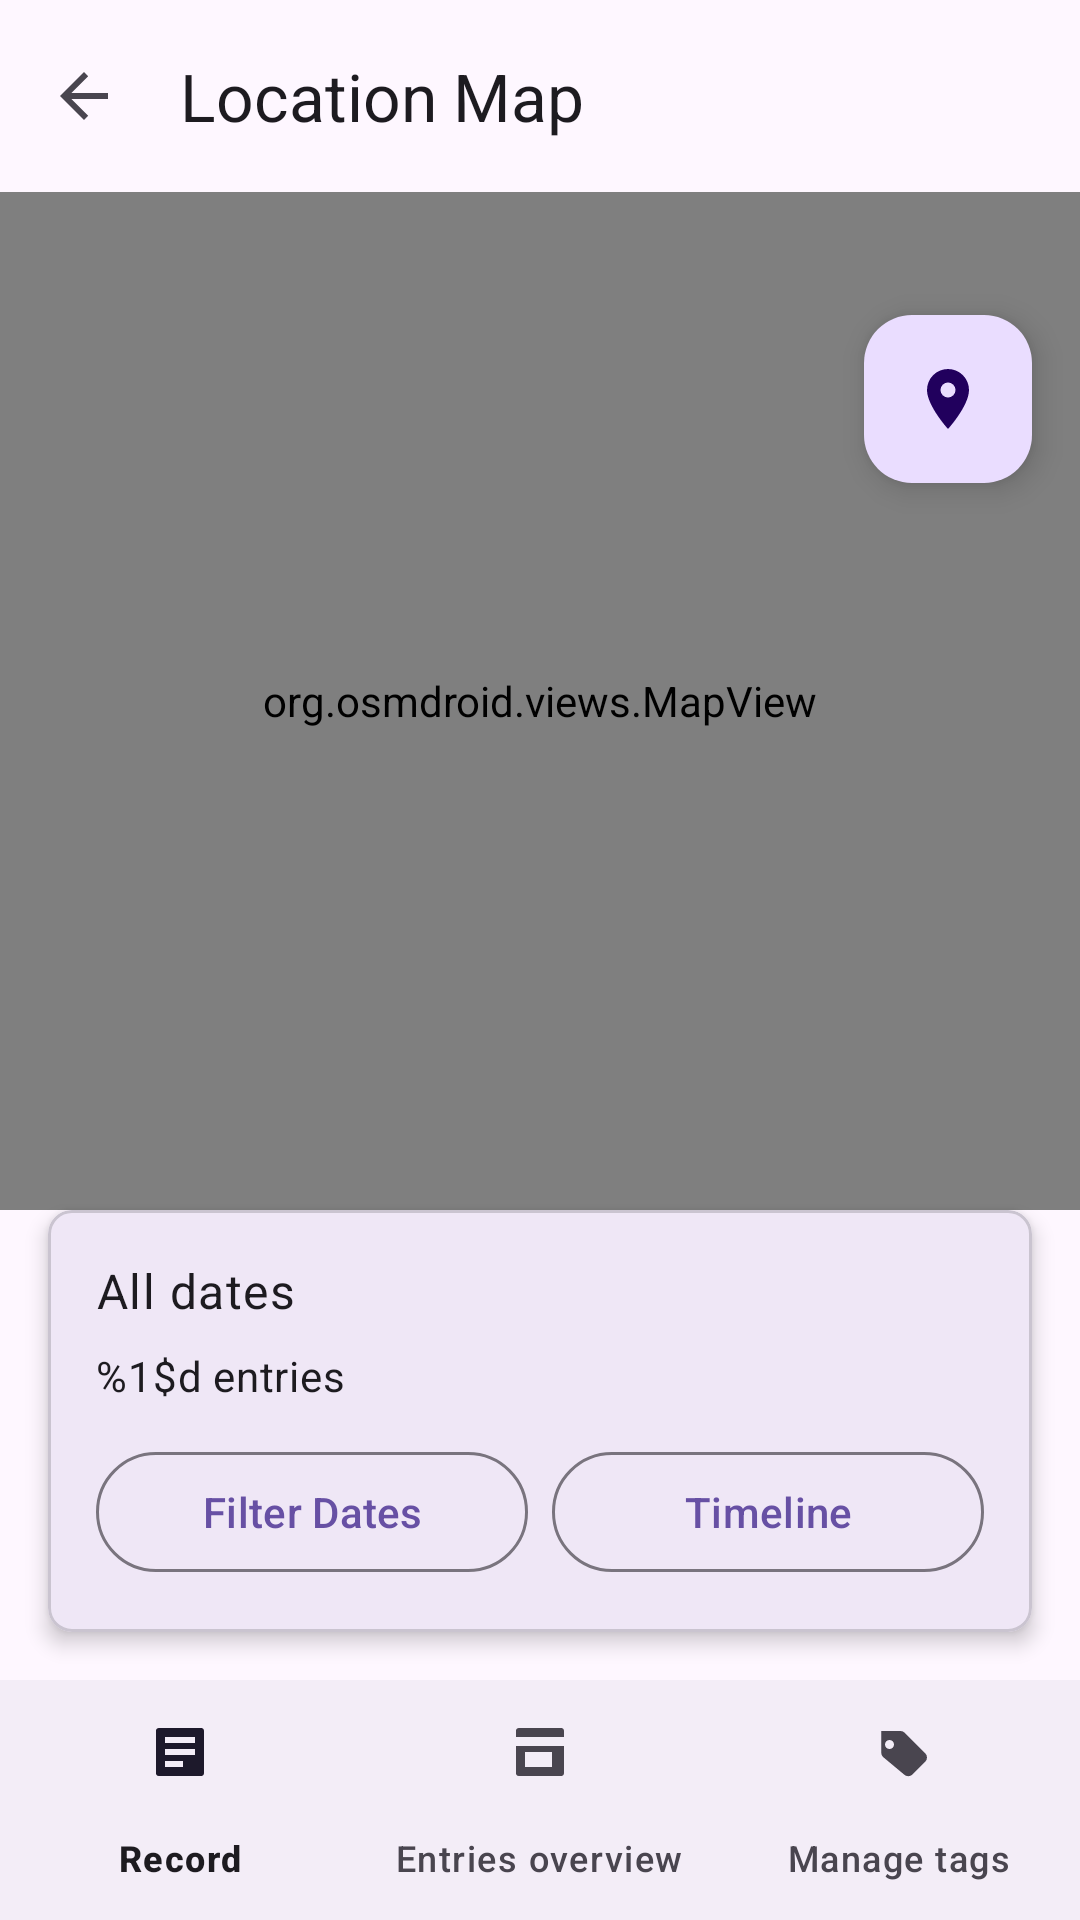

Point at icon controls on the screen. Image size 1080px×1920px, points as (x,y).
Agregar marcador de ubicación: (948,399)
